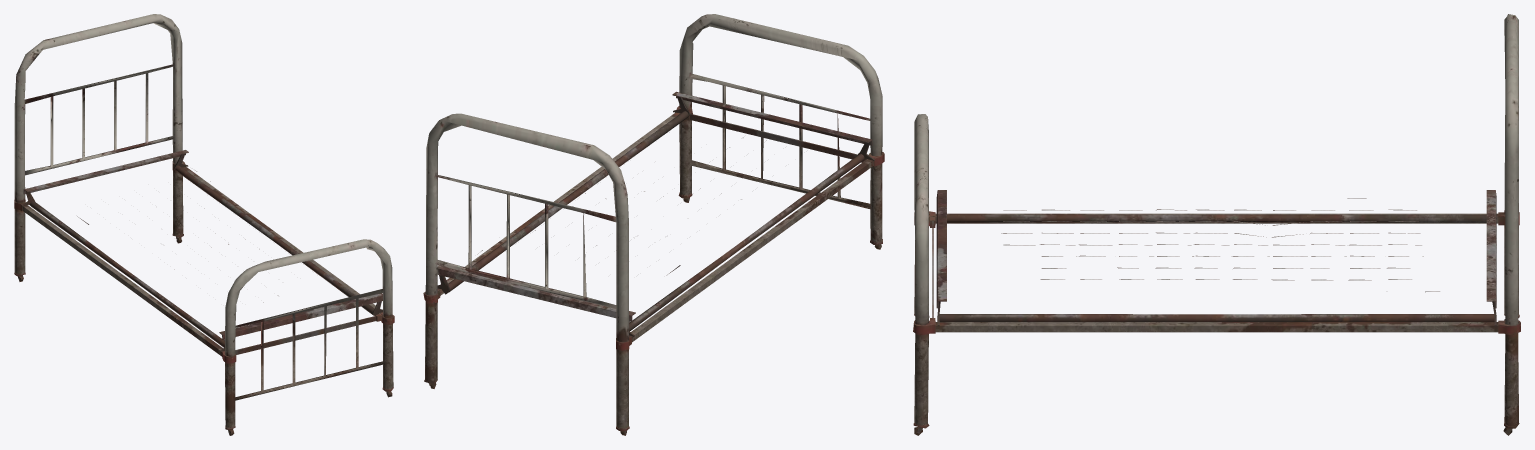
File: old_bed_frame.glb
3 renders of one model, left to right at view 1: azimuth 30°, elevation 25°; view 2: azimuth 150°, elevation 25°; view 3: azimuth 270°, elevation 25°, orthographic. The views are drawn at different scales.
Visible parts, largest first — view 1: old_bed_frame; view 2: old_bed_frame; view 3: old_bed_frame.
Part boxes in pixels (x1=…): old_bed_frame: x1=14, y1=14, x2=394, y2=435; old_bed_frame: x1=423, y1=14, x2=884, y2=435; old_bed_frame: x1=913, y1=14, x2=1520, y2=435.
Size of the model in its own units: 0.9047 by 1.2 by 2.
Materials: 1 (1 with a texture image).
